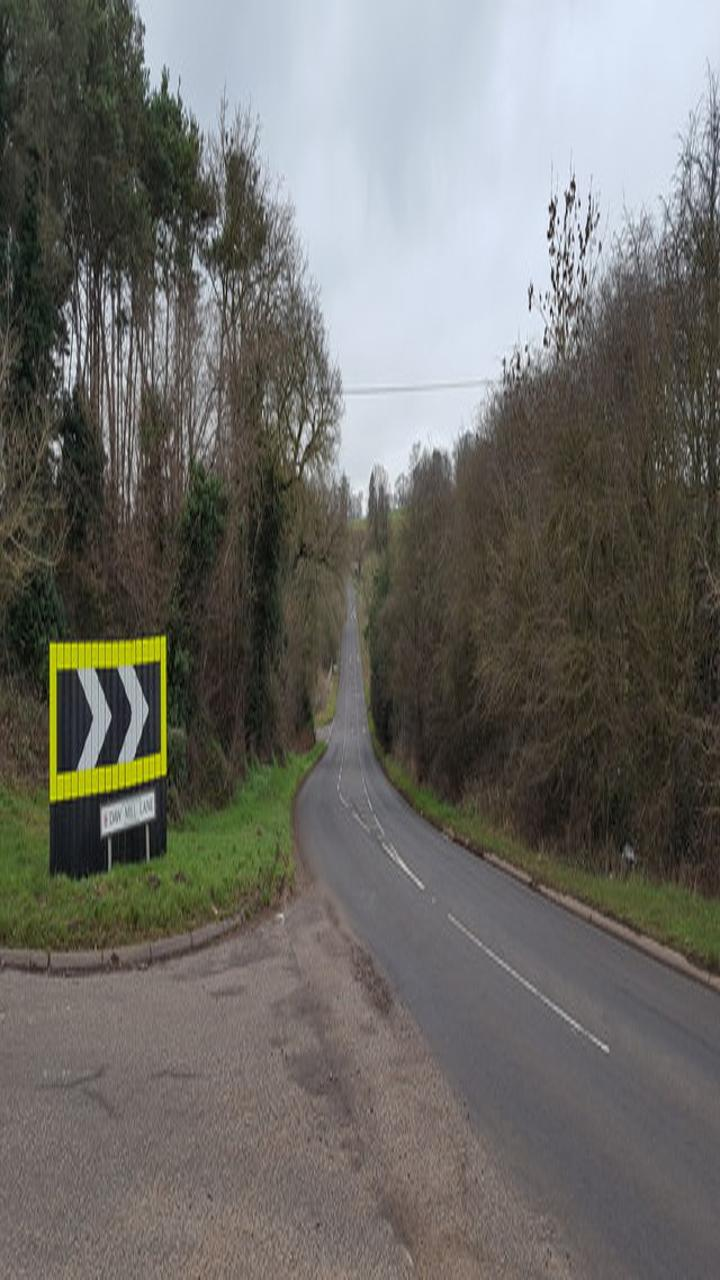Traffic sign: (26, 637, 191, 879)
